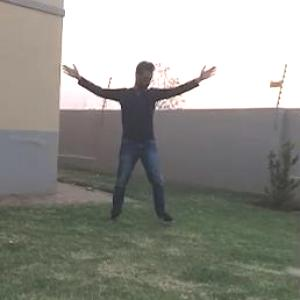takeoff: (62, 63, 212, 228)
